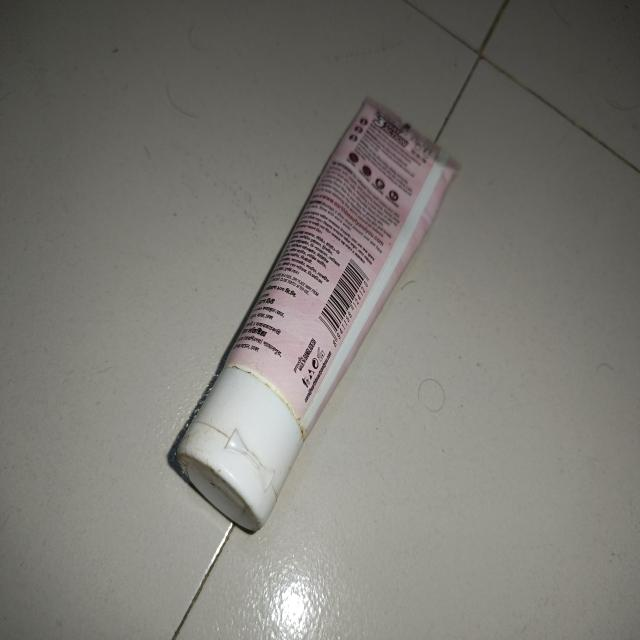Squeeze Tube: (147, 88, 468, 518)
